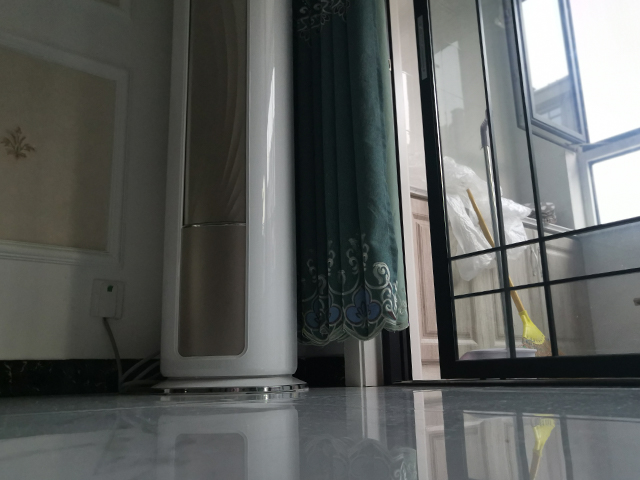cabinet: (408, 183, 595, 379)
curtain: (290, 1, 412, 350)
wire: (100, 315, 162, 395)
